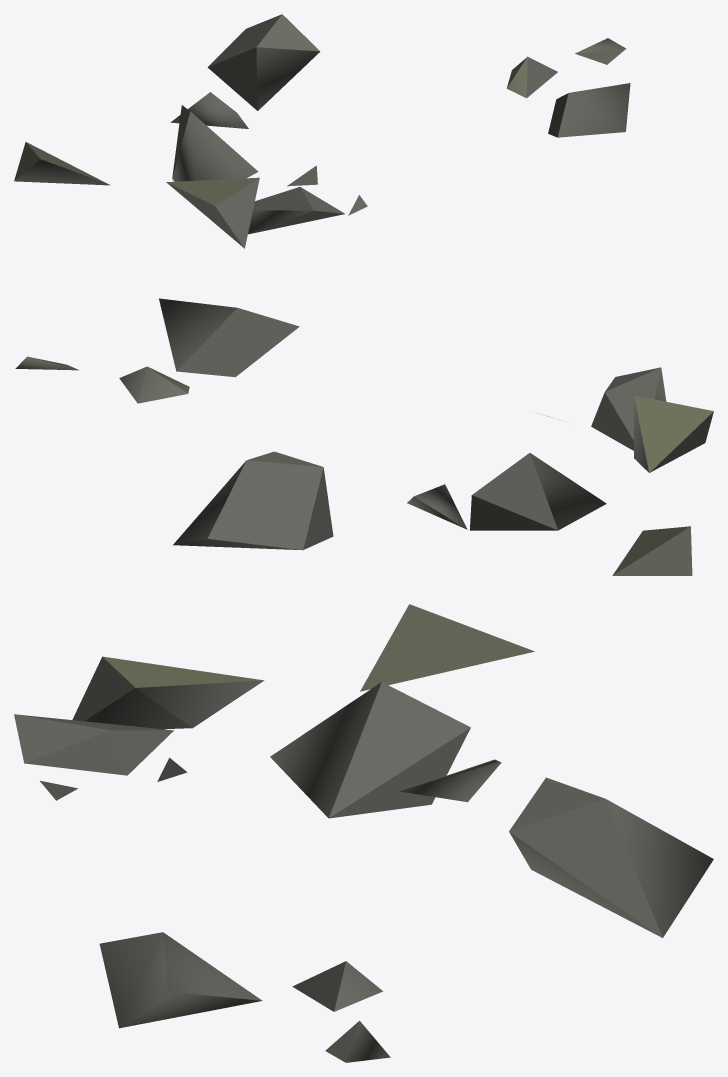
Rendered from pebbles_lod1.glb.
3 views of the same model, one above another, from view 1: azimuth 30°, elevation 25°; view 2: azimuth 150°, elevation 25°; view 3: azimuth 270°, elevation 25° (orthographic). The views are drawn at different scales.
Visible parts, largest first — view 1: pebbles_lod1; view 2: pebbles_lod1; view 3: pebbles_lod1.
Part boxes in pixels (x1,y1,x2,y2): pebbles_lod1: (14,14,630,248); pebbles_lod1: (15,298,713,575); pebbles_lod1: (14,604,713,1062).
Bounding box in the file's own units: 1.8 × 0.2002 × 1.17.
